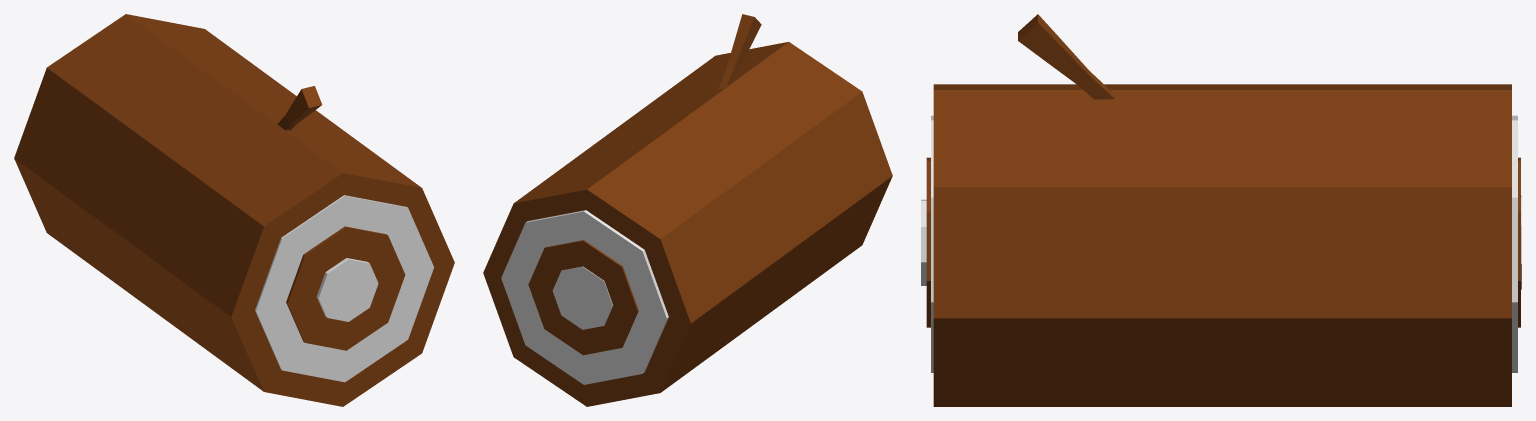
The model's file is log.fbx.
The picture shows the model from 3 angles, left to right: view 1: azimuth 30°, elevation 25°; view 2: azimuth 150°, elevation 25°; view 3: azimuth 270°, elevation 25°; orthographic projection. The views are drawn at different scales.
Visible parts, largest first — view 1: Cylinder, Cylinder.001, Cylinder.003, Cylinder.005, Cube; view 2: Cylinder, Cylinder.002, Cylinder.004, Cylinder.006, Cube; view 3: Cylinder, Cube, Cylinder.002, Cylinder.003, Cylinder.001.
Part boxes in pixels (box(x1,y1,x2,y2)): Cylinder: box(14, 14, 454, 406); Cylinder.001: box(255, 195, 434, 382); Cylinder.003: box(286, 226, 405, 350); Cylinder.005: box(316, 258, 378, 321); Cube: box(277, 86, 322, 130); Cylinder: box(483, 42, 892, 406); Cylinder.002: box(501, 210, 668, 384); Cylinder.004: box(528, 240, 638, 355); Cylinder.006: box(552, 266, 613, 329); Cube: box(718, 14, 761, 89); Cylinder: box(933, 84, 1511, 406); Cube: box(1018, 14, 1114, 99); Cylinder.002: box(1512, 115, 1517, 372); Cylinder.003: box(926, 157, 930, 327); Cylinder.001: box(931, 115, 933, 372).
Bounding box in the file's own units: 200 × 248 × 350.
